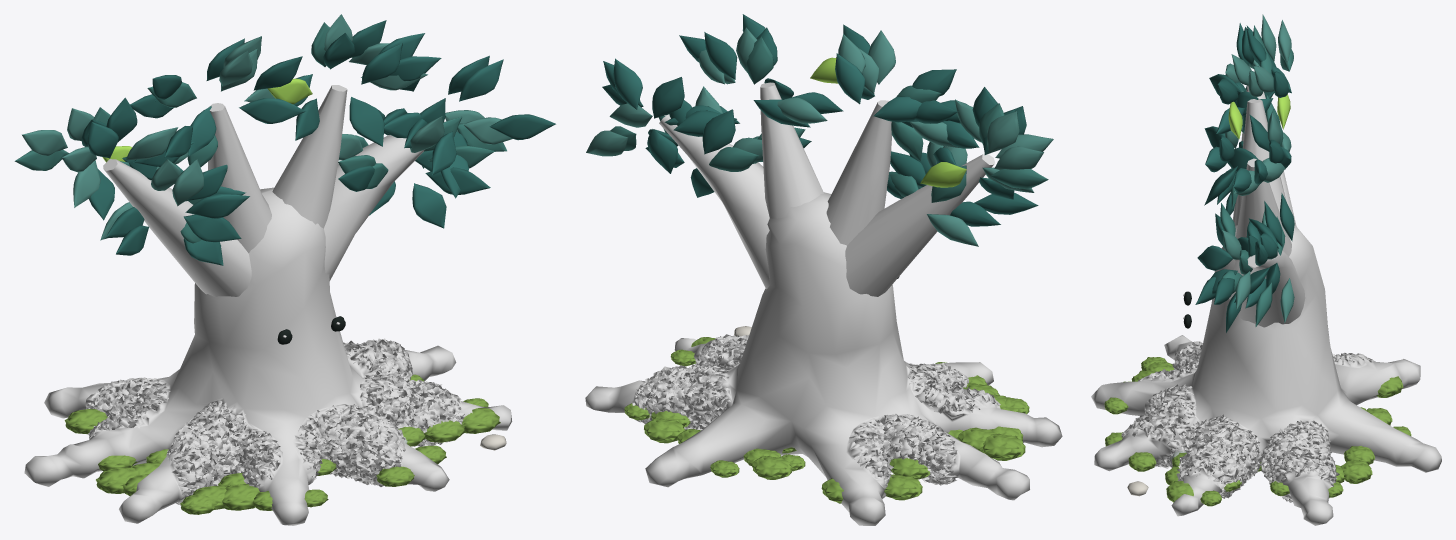
3 views of the same model, side by side, from view 1: azimuth 30°, elevation 25°; view 2: azimuth 150°, elevation 25°; view 3: azimuth 270°, elevation 25° (orthographic). The views are drawn at different scales.
Parts seen in each view (by area): view 1: trunk, c, c.002, c.003, c.001, Sphere.044, Sphere.007, Sphere.029, Sphere.081, Sphere.004, Sphere.064, Sphere.015 (+34 smaller); view 2: trunk, c, c.001, c.003, c.002, Sphere.041, Sphere.054, Sphere.033, Sphere.037, Icosphere.018, Sphere.009, Sphere.076 (+29 smaller); view 3: trunk, c.003, c.002, c.001, Sphere.021, Icosphere.002, Sphere.044, Icosphere.001, Icosphere.022, Sphere.069, Sphere.033, Sphere.081 (+1 smaller).
Part boxes in pixels (x1,y1,x2,y2): trunk: [24, 187, 512, 525]; c: [103, 159, 251, 296]; c.002: [272, 85, 347, 228]; c.003: [324, 121, 444, 280]; c.001: [208, 103, 271, 253]; Sphere.044: [349, 97, 384, 146]; Sphere.007: [239, 98, 305, 123]; Sphere.029: [412, 183, 446, 228]; Sphere.081: [489, 114, 555, 140]; Sphere.004: [183, 214, 241, 242]; Sphere.064: [185, 194, 249, 218]; Sphere.015: [459, 59, 503, 101]; trunk: [585, 192, 1062, 525]; c: [845, 154, 994, 296]; c.001: [826, 100, 891, 245]; c.003: [659, 114, 769, 289]; c.002: [760, 82, 823, 218]; Sphere.041: [702, 109, 735, 154]; Sphere.054: [987, 111, 1019, 152]; Sphere.033: [652, 77, 684, 118]; Sphere.037: [835, 53, 865, 104]; Icosphere.018: [981, 433, 1025, 460]; Sphere.009: [613, 58, 642, 109]; Sphere.076: [927, 214, 978, 246]; trunk: [1091, 225, 1441, 525]; c.003: [1229, 250, 1305, 327]; c.002: [1235, 158, 1291, 260]; c.001: [1234, 99, 1286, 225]; Sphere.021: [1197, 245, 1233, 270]; Icosphere.002: [1341, 460, 1372, 483]; Sphere.044: [1204, 166, 1237, 205]; Icosphere.001: [1128, 452, 1156, 471]; Icosphere.022: [1344, 446, 1374, 464]; Sphere.069: [1255, 282, 1272, 326]; Sphere.033: [1280, 193, 1294, 241]; Sphere.081: [1214, 278, 1234, 304].
Bounding box in the file's own units: 1.73 × 1.4 × 1.19.
